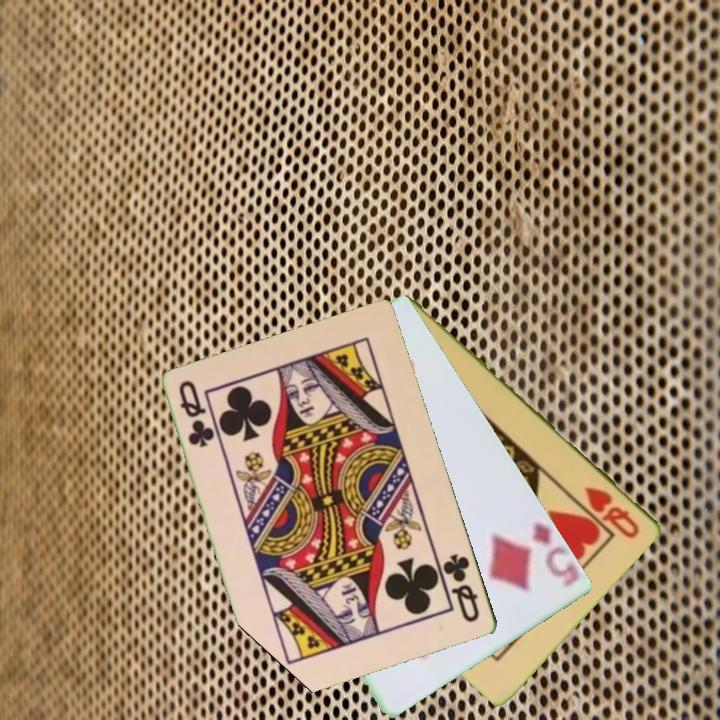5d: (529, 518, 577, 587)
Qc: (439, 550, 483, 626), (176, 377, 216, 451)
Qh: (582, 483, 643, 542)
